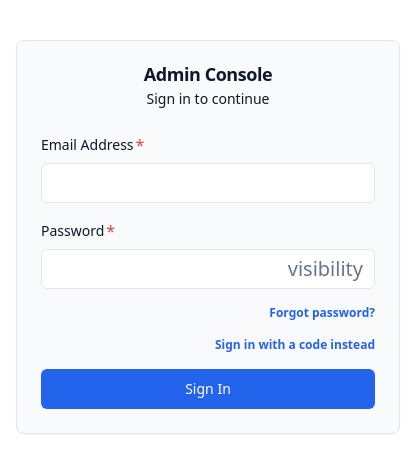
Test: LoginForm › renders the translated message for serverUnavailable
Step 1. Type "a@b.io" into the field labelled "Email Address" → (208, 183), box [41,163,375,203]
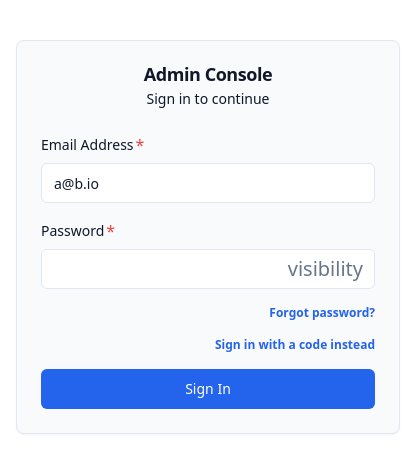
Step 2. Type "pw" into the password field labelled "Password" → (208, 269), box [41,249,375,289]
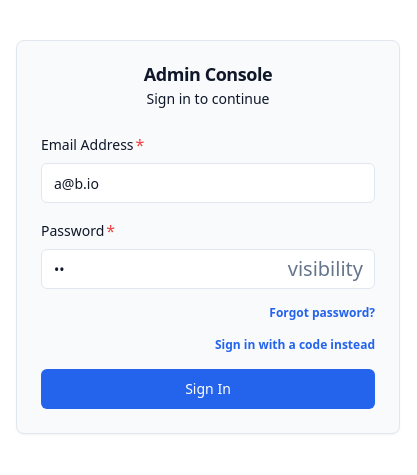
Step 3. Submit the form, box [41,133,375,409]
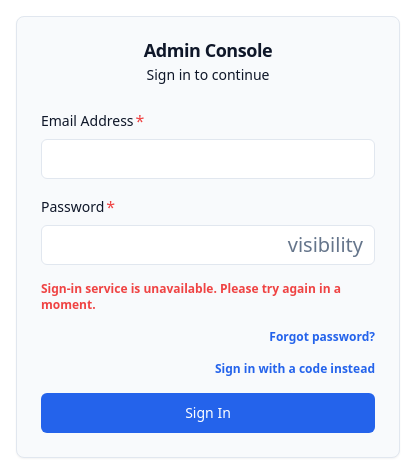
Check: the text with test id "login-error" reads "Sign-in service is unavailable. Please try again in a moment.", box [41,280,341,313]
